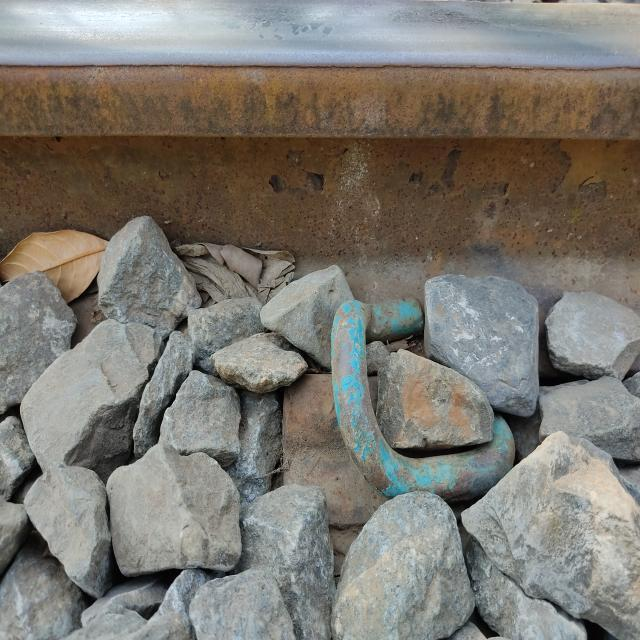Good Fasteners: (282, 292, 515, 528)
